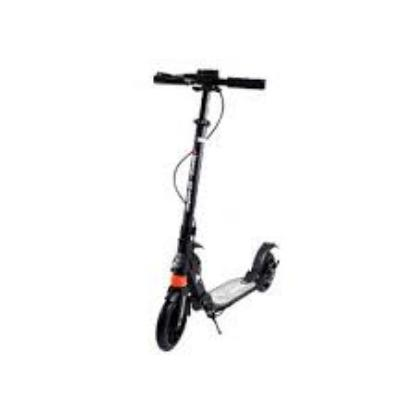bike: (152, 71, 282, 353), (155, 240, 280, 352)
